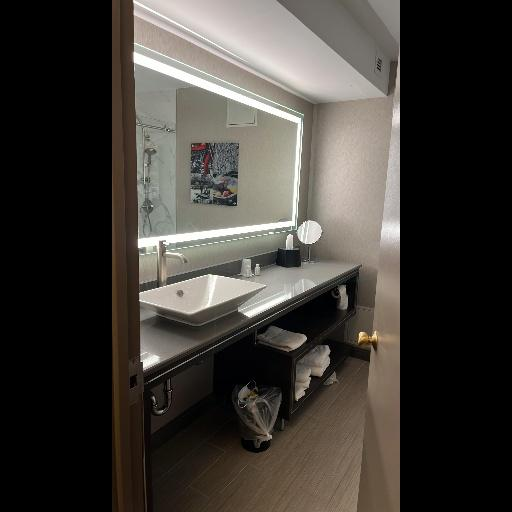clean_floor: (148, 357, 372, 511)
clean_sink: (138, 245, 362, 388)
folded_towel: (292, 338, 336, 402), (257, 324, 308, 353)
